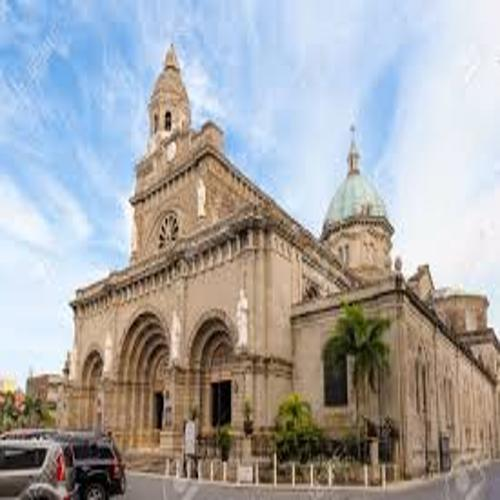Manila Cathedral Church: (35, 29, 498, 480)
